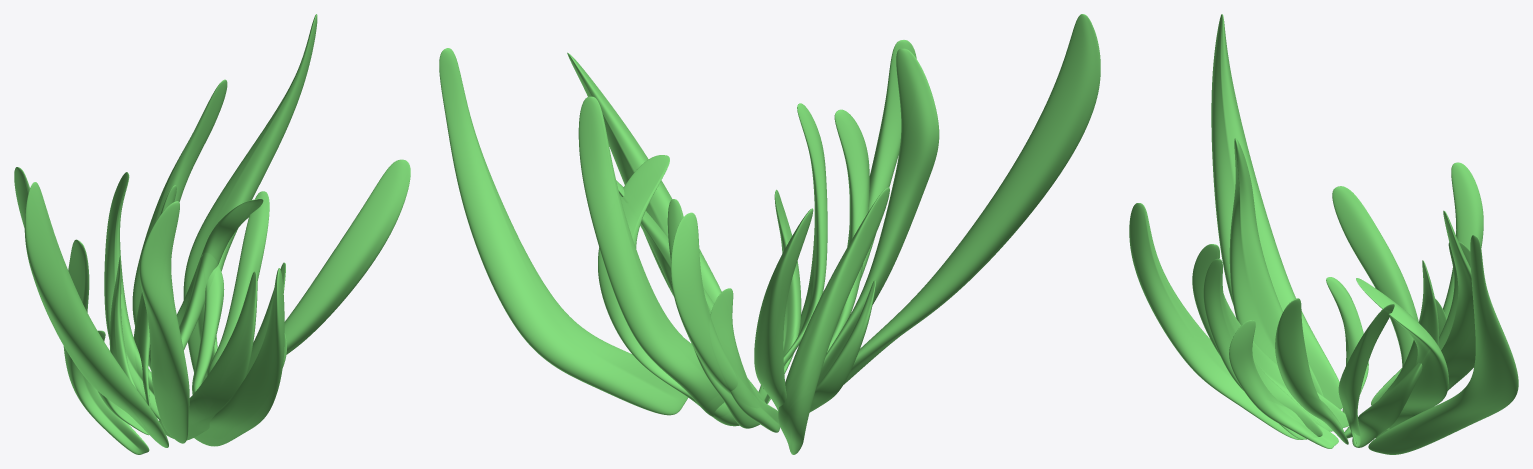
File: grass.fbx
3 renders of one model, left to right at view 1: azimuth 30°, elevation 25°; view 2: azimuth 150°, elevation 25°; view 3: azimuth 270°, elevation 25°, orthographic. The views are drawn at different scales.
Visible parts, largest first — view 1: Cube; view 2: Cube; view 3: Cube.
Boxes of the visible parts, x1,y1,x2,y2 form: Cube: (14, 14, 410, 454); Cube: (439, 14, 1100, 454); Cube: (1129, 14, 1518, 454).
Bounding box in the file's own units: 35.14 × 28.77 × 29.25.
